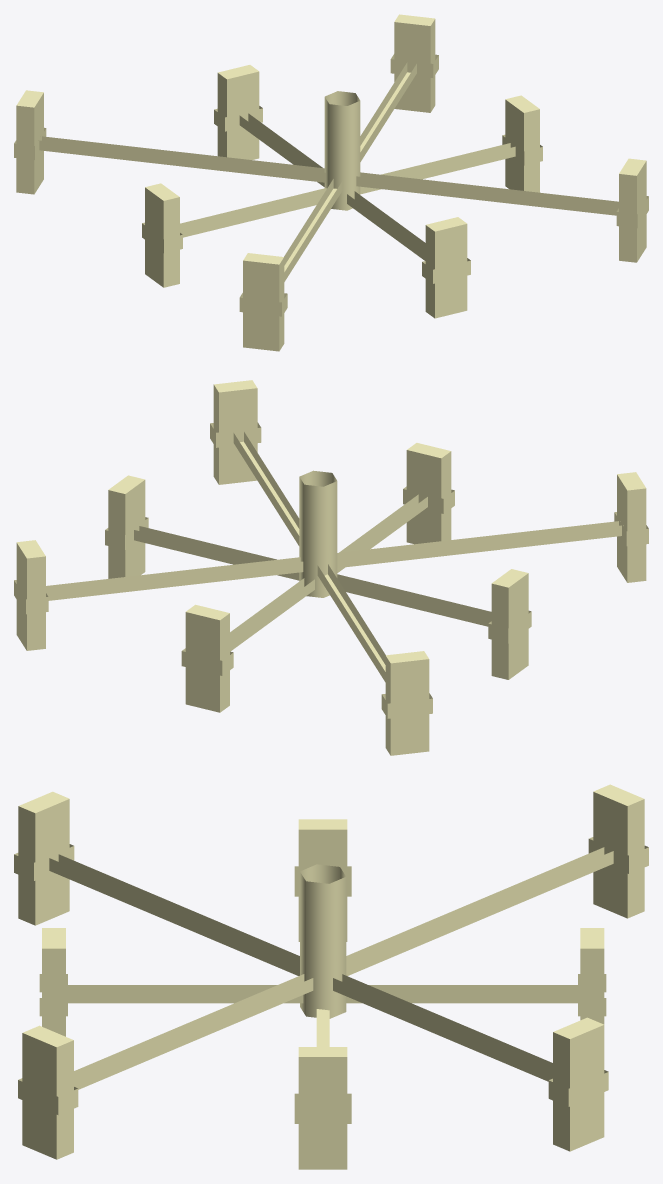
Rendered from M_xidingdeng04.FBX.
The picture shows the model from 3 angles, top to bottom: view 1: azimuth 30°, elevation 25°; view 2: azimuth 150°, elevation 25°; view 3: azimuth 270°, elevation 25°; orthographic projection. The views are drawn at different scales.
Visible parts, largest first — view 1: M_xidingdeng04_01, M_xidingdeng04_02; view 2: M_xidingdeng04_01, M_xidingdeng04_02; view 3: M_xidingdeng04_01, M_xidingdeng04_02.
Part boxes in pixels (bbox=[...]): M_xidingdeng04_01: bbox=[14, 54, 648, 316]; M_xidingdeng04_02: bbox=[16, 14, 646, 351]; M_xidingdeng04_01: bbox=[14, 422, 648, 718]; M_xidingdeng04_02: bbox=[16, 380, 646, 755]; M_xidingdeng04_01: bbox=[14, 837, 648, 1123]; M_xidingdeng04_02: bbox=[18, 784, 644, 1169].
Size of the model in its own units: 2.51 by 0.7743 by 2.52.
